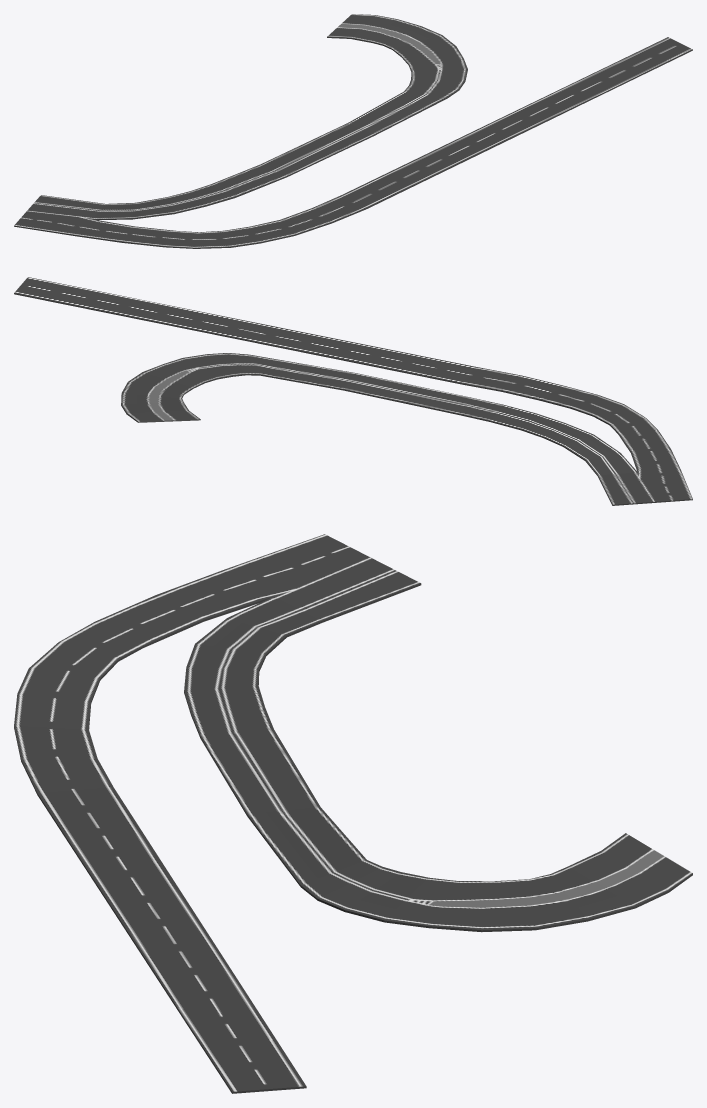
File: jazero_opatske_vss.fbx
The picture shows the model from 3 angles, top to bottom: view 1: azimuth 30°, elevation 25°; view 2: azimuth 150°, elevation 25°; view 3: azimuth 270°, elevation 25°; orthographic projection. The views are drawn at different scales.
Visible parts, largest first — view 1: jazero_opatske_vss; view 2: jazero_opatske_vss; view 3: jazero_opatske_vss.
Part boxes in pixels (box(x1,y1,x2,y2)): jazero_opatske_vss: box(14, 14, 692, 248); jazero_opatske_vss: box(14, 277, 692, 505); jazero_opatske_vss: box(14, 534, 692, 1093).
Bounding box in the file's own units: 6229 × 13533 × 752.
